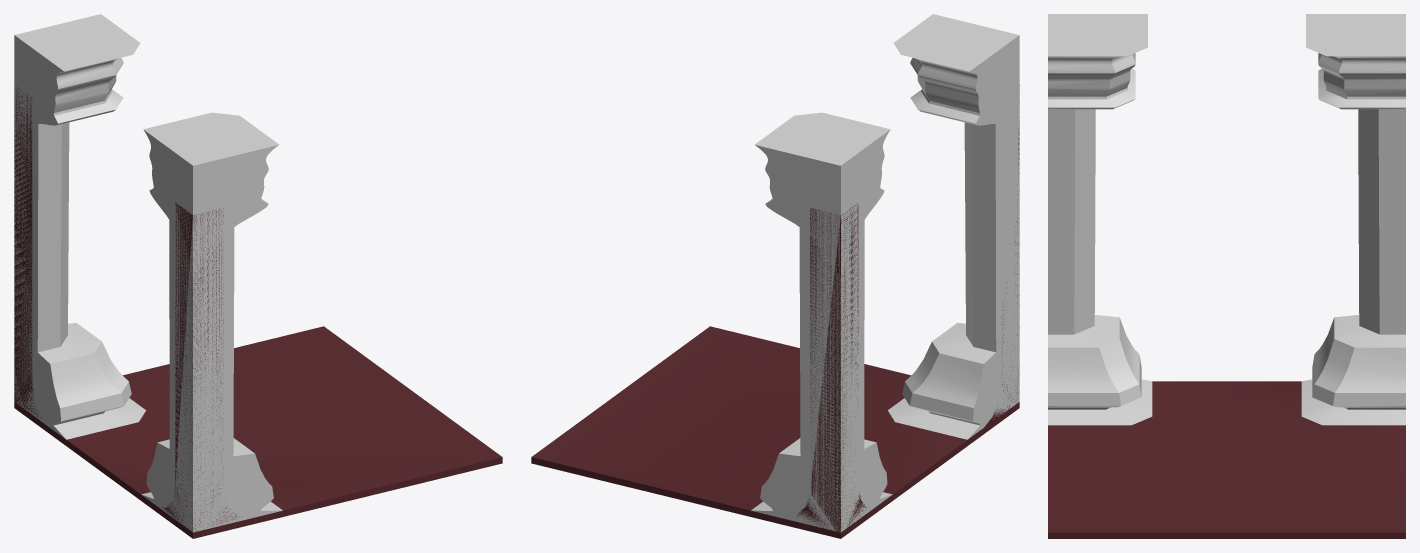
The model's file is Tileset_Piece_95.fbx.
The picture shows the model from 3 angles, left to right: view 1: azimuth 30°, elevation 25°; view 2: azimuth 150°, elevation 25°; view 3: azimuth 270°, elevation 25°; orthographic projection.
Parts seen in each view (by area): view 1: Tileset_Piece_95; view 2: Tileset_Piece_95; view 3: Tileset_Piece_95.
Part boxes in pixels (x1,y1,x2,y2): Tileset_Piece_95: (14, 14, 502, 538); Tileset_Piece_95: (531, 14, 1019, 538); Tileset_Piece_95: (1048, 14, 1405, 538).
Bounding box in the file's own units: 100 × 115 × 100.
